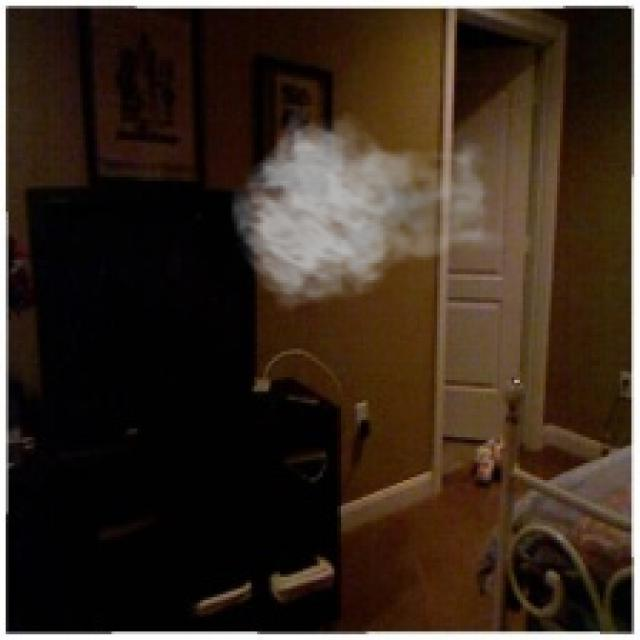smoke: (228, 106, 508, 311)
